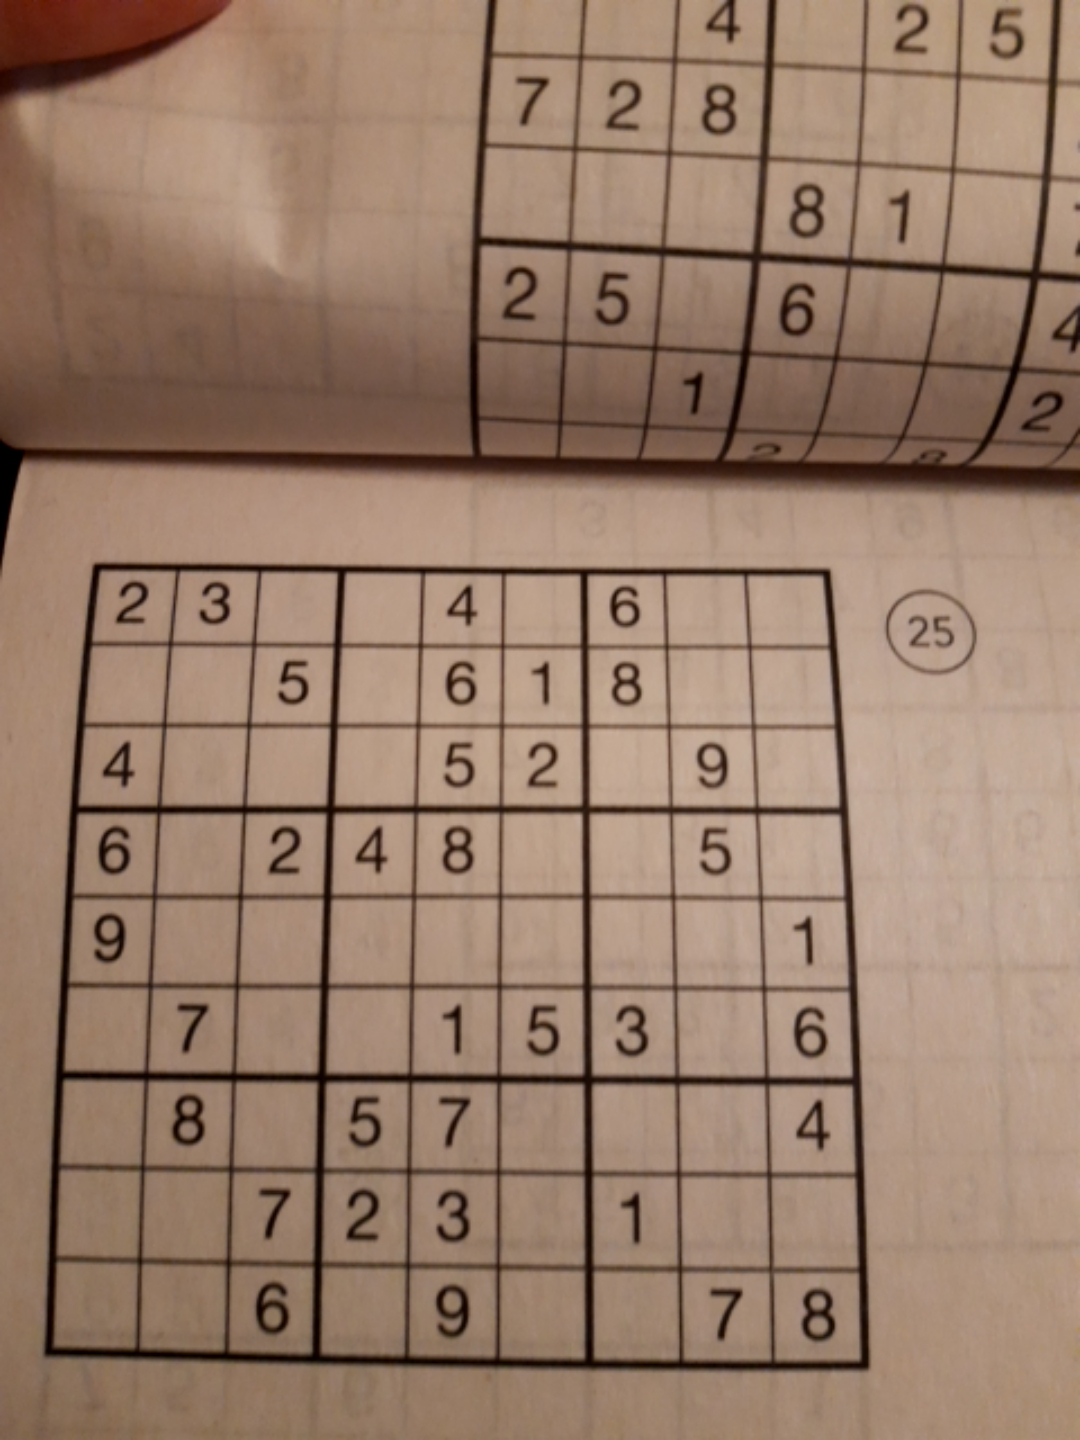sudoku: (38, 562, 866, 1371)
